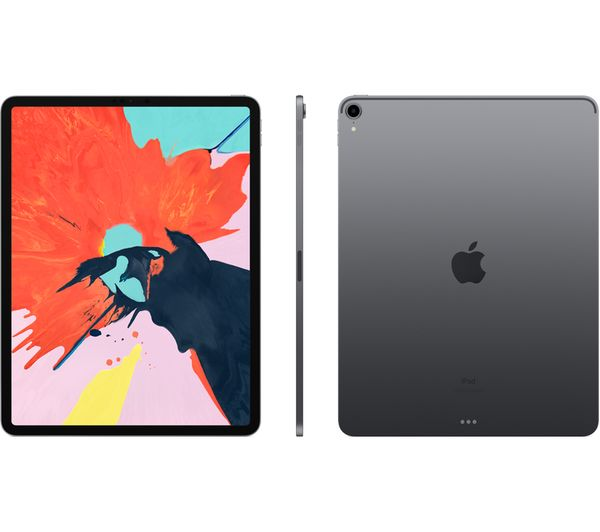apple: (432, 218, 503, 306)
